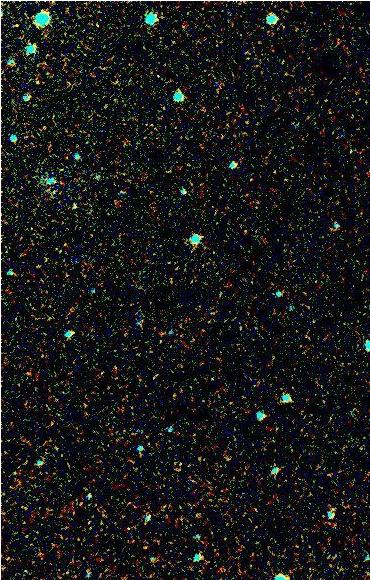star: (20, 66, 50, 96)
